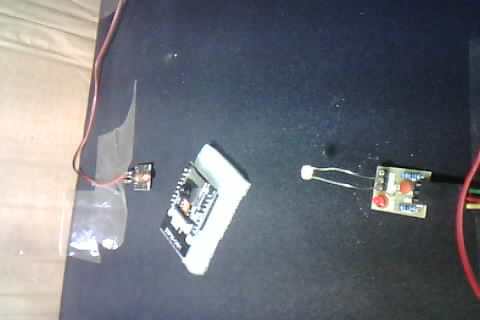esp32: (159, 142, 253, 277)
